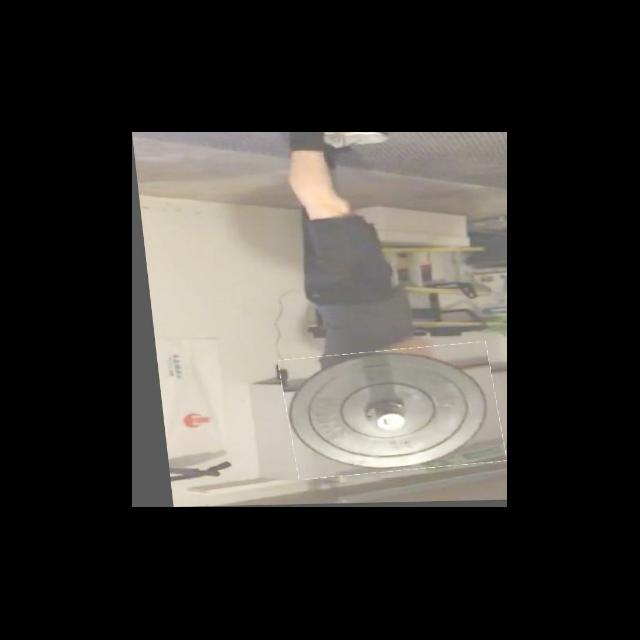barbell: (274, 347, 498, 477)
